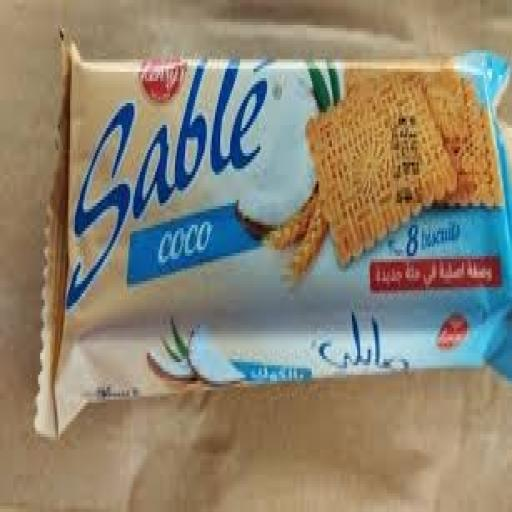sabl: (32, 12, 512, 450)
